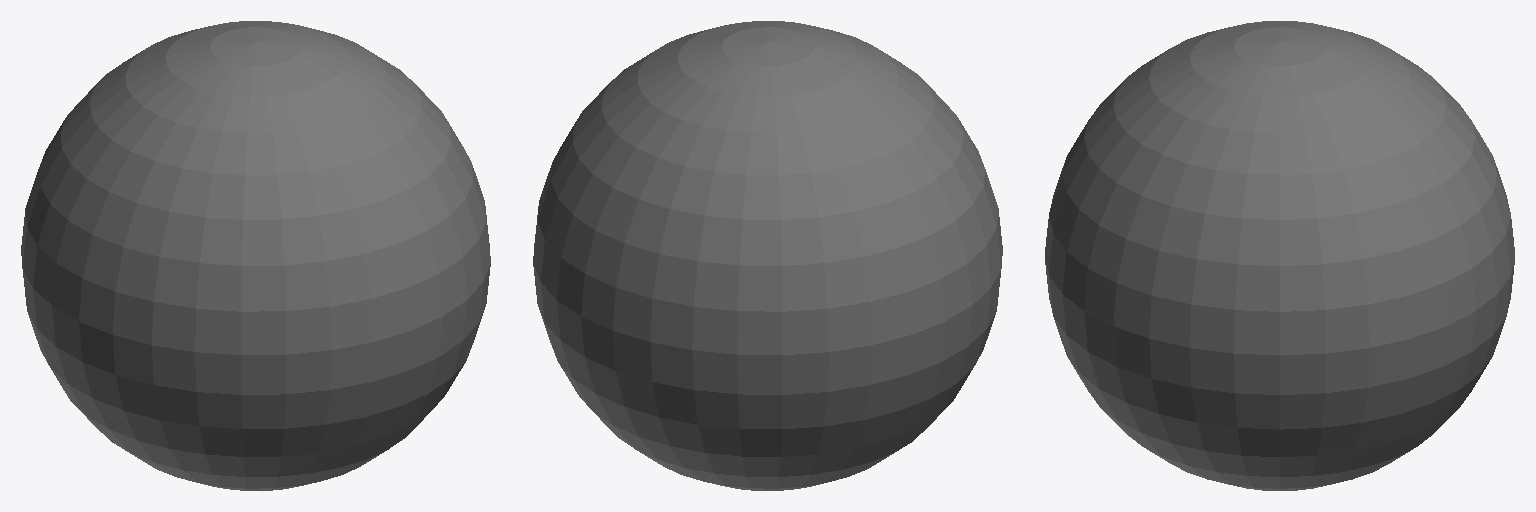
File: lua.obj
3 views of the same model, side by side, from view 1: azimuth 30°, elevation 25°; view 2: azimuth 150°, elevation 25°; view 3: azimuth 270°, elevation 25° (orthographic).
Parts seen in each view (by area): view 1: unnamed_object1; view 2: unnamed_object1; view 3: unnamed_object1.
Boxes of the visible parts, box(x1,y1,x2,y2) form: unnamed_object1: box(21, 21, 490, 490); unnamed_object1: box(533, 21, 1002, 490); unnamed_object1: box(1045, 21, 1514, 490).
Bounding box in the file's own units: 2 × 2 × 2.